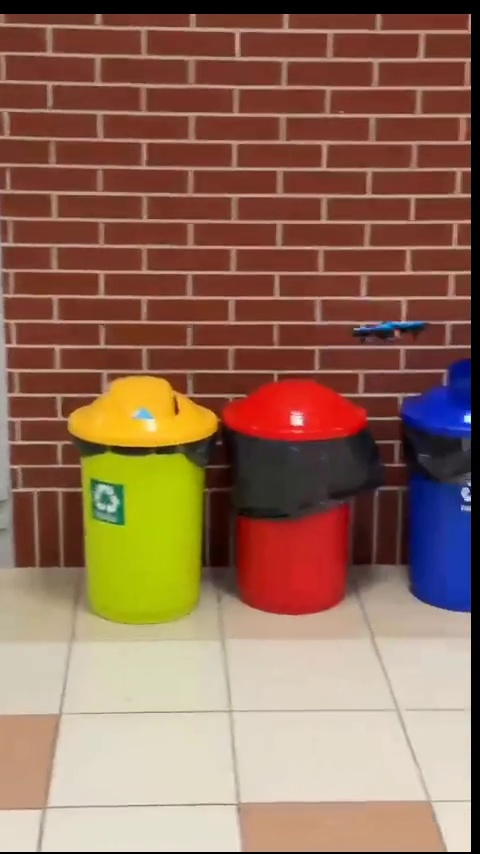drone: (353, 316, 428, 350)
